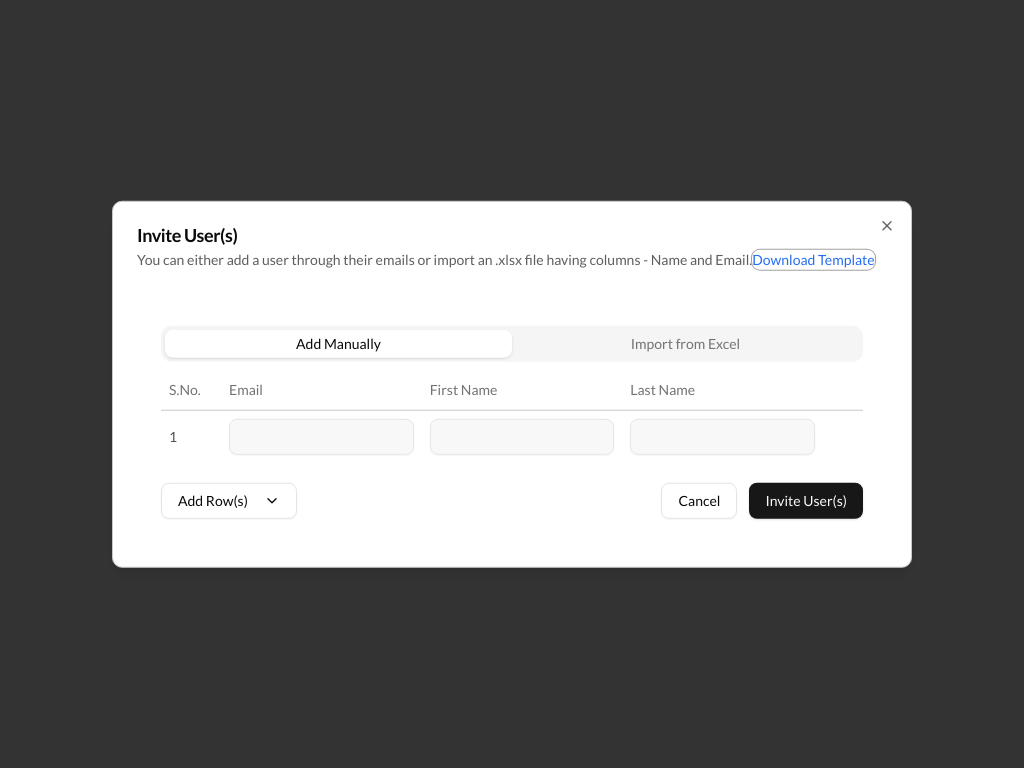
InviteUserDialog Component › Manual Tab - Add Rows Dropdown › should not render Add Row(s) dropdown in import tab
The width and height of the screenshot is (1024, 768).
Step 1. Click the tab "Import from Excel" → (686,344), box top-left (512, 330), bottom-right (859, 358)
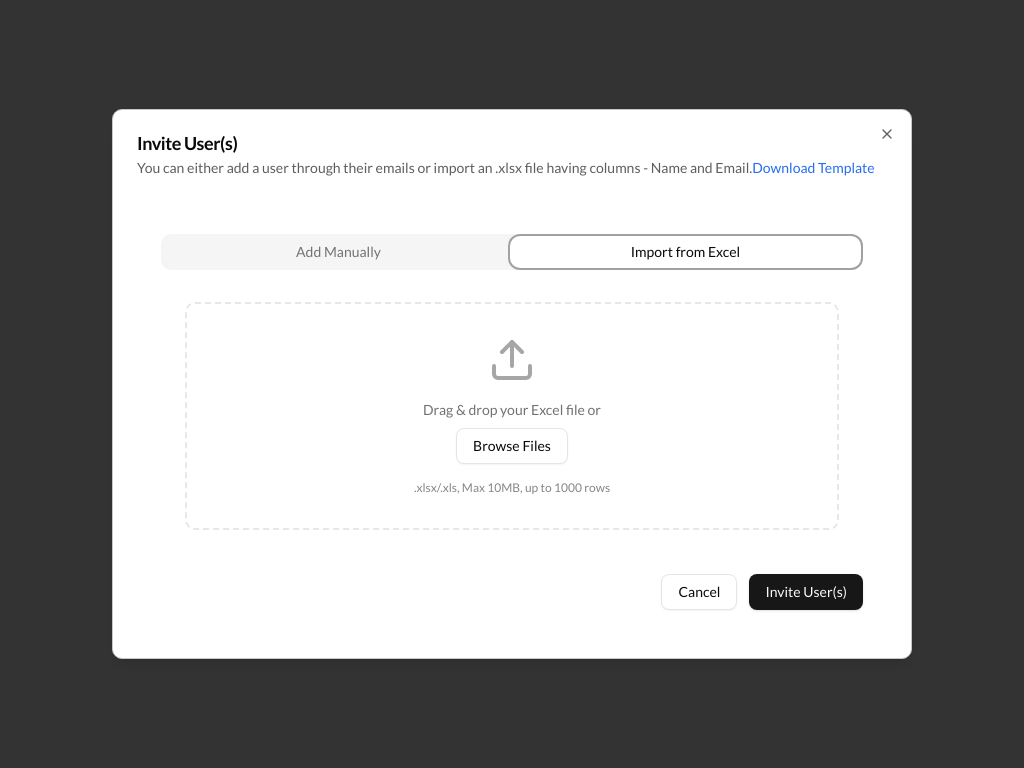
Expected: the button "Add Row(s)" is gone
